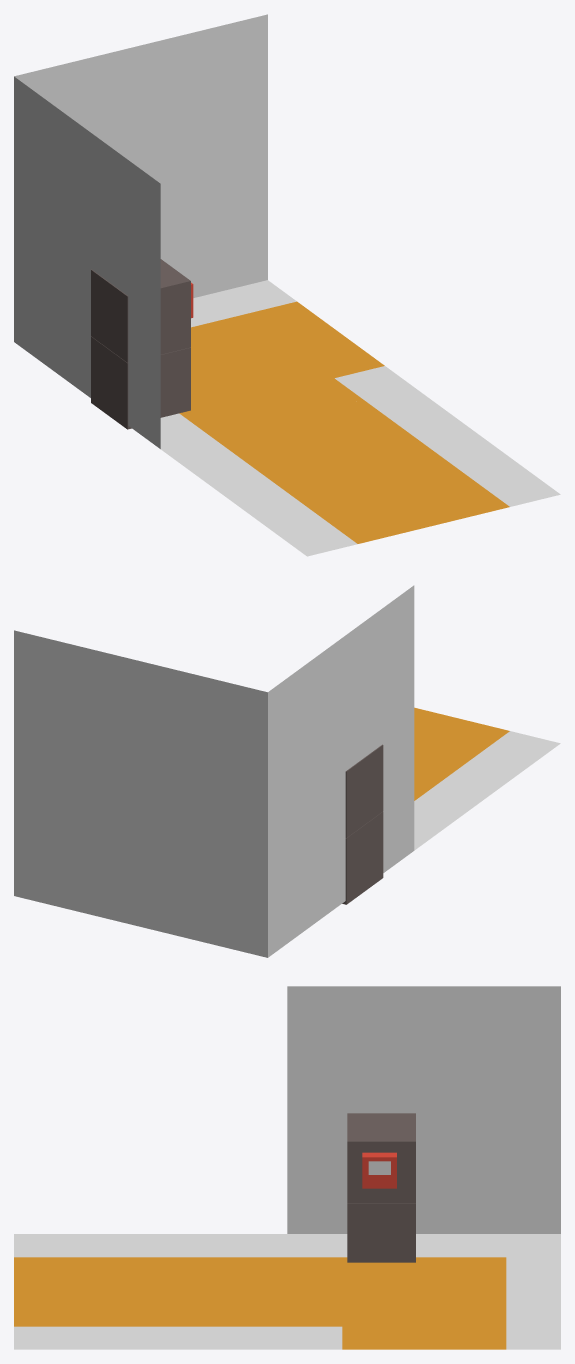
Rendered from LevelAssets_test 1.fbx.
The picture shows the model from 3 angles, top to bottom: view 1: azimuth 30°, elevation 25°; view 2: azimuth 150°, elevation 25°; view 3: azimuth 270°, elevation 25°; orthographic projection. The views are drawn at different scales.
Visible parts, largest first — view 1: Plane, Plane.000, Plane.002, Plane.001, Cube.002, Cube; view 2: Plane, Plane.002, Plane.000, Cube.002, Cube; view 3: Plane.002, Plane.000, Plane.001, Cube.002, Cube, Cube.001.
Part boxes in pixels (box(x1,y1,x2,y2)): Plane: box(14, 14, 267, 297); Plane.000: box(161, 387, 560, 556); Plane.002: box(14, 76, 160, 448); Plane.001: box(160, 280, 413, 448); Cube.002: box(91, 259, 190, 362); Cube: box(91, 336, 190, 429); Plane: box(14, 630, 267, 957); Plane.002: box(268, 585, 414, 957); Plane.000: box(414, 707, 560, 850); Cube.002: box(345, 744, 383, 837); Cube: box(342, 812, 383, 904); Plane.002: box(287, 986, 560, 1233); Plane.000: box(14, 1234, 287, 1349); Plane.001: box(287, 1234, 560, 1349); Cube.002: box(347, 1113, 415, 1203); Cube: box(347, 1203, 415, 1262); Cube.001: box(362, 1152, 396, 1188).
Bounding box in the file's own units: 201 × 203 × 400.
